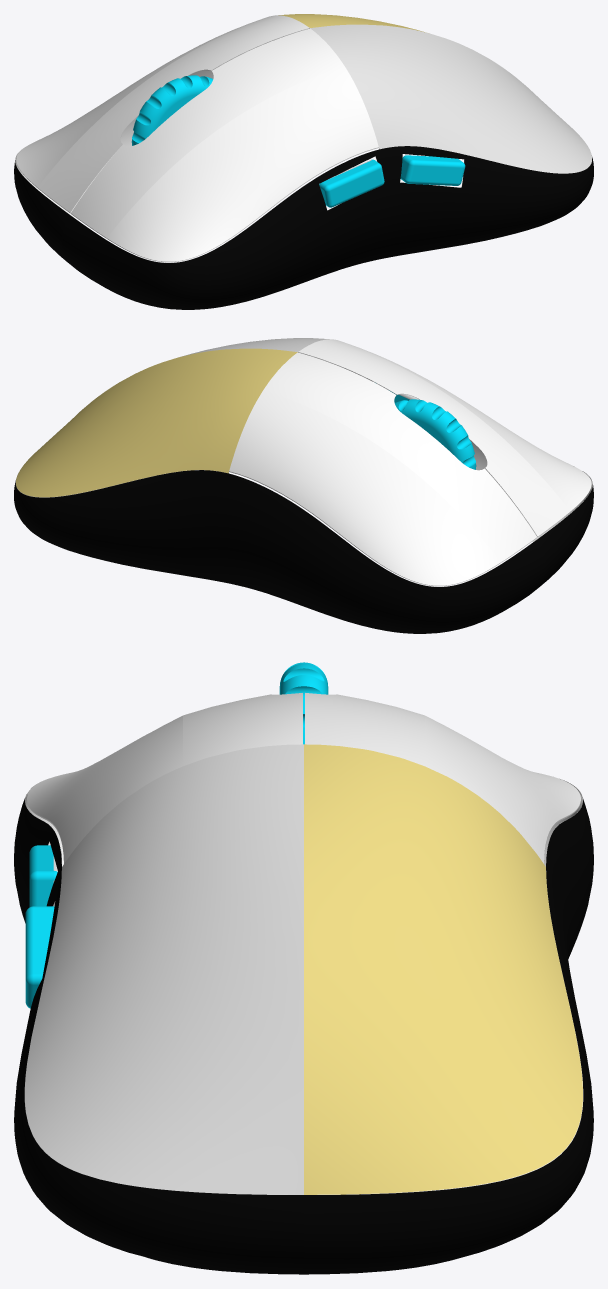
File: mouse.glb
3 renders of one model, top to bottom at view 1: azimuth 30°, elevation 25°; view 2: azimuth 150°, elevation 25°; view 3: azimuth 270°, elevation 25°, orthographic. The views are drawn at different scales.
Visible parts, largest first — view 1: mouse; view 2: mouse; view 3: mouse.
Boxes of the visible parts, box(x1,y1,x2,y2) form: mouse: box(14, 14, 593, 309); mouse: box(14, 338, 593, 633); mouse: box(14, 662, 593, 1274).
Size of the model in its own units: 0.1228 by 0.0461 by 0.0719.
